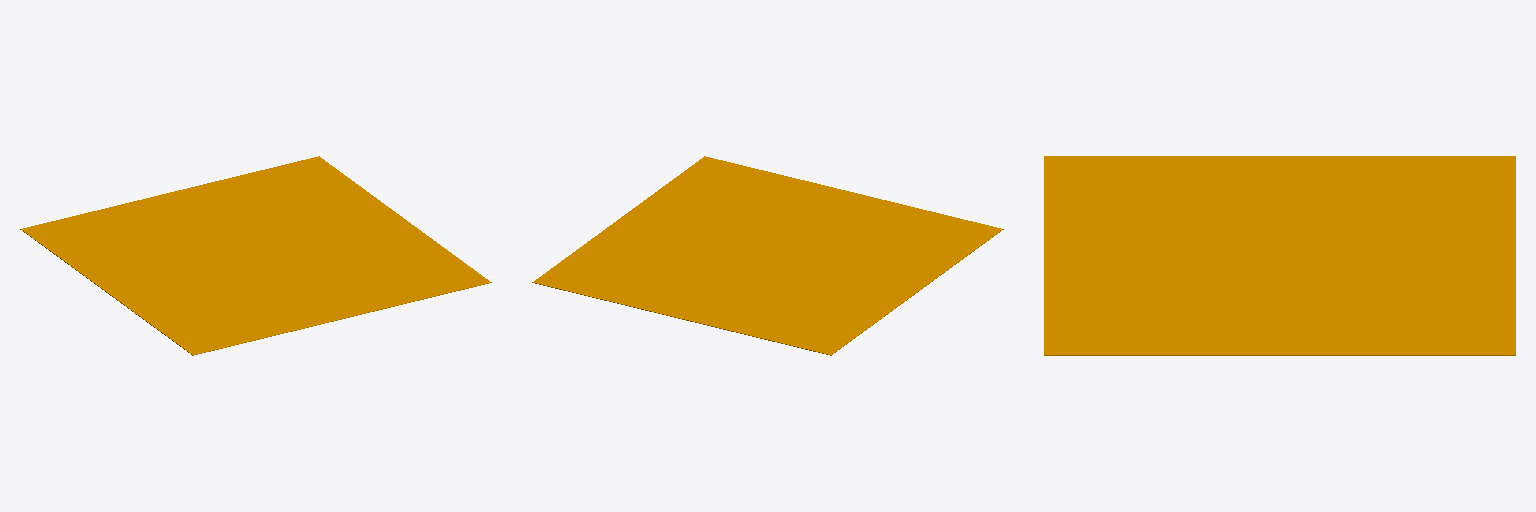
The robot description file, URDF, robot "block_placeholder":
<robot name="block_placeholder">
  <static>1</static>
  <!-- <link name="block_placeholder_0">
    <inertial>
      <origin xyz="0.0 0.0 0.0" />
      <mass value="500" />
      <inertia  ixx="0.000052083" ixy="0.0"  ixz="0.0"  iyy="0.000052083"  iyz="0.0"  izz="0.000052083" />
    </inertial>
    <visual>
      <origin xyz="0.0 0.0 0.0" />
      <geometry>
        <box size="0.001 0.05 0.04" />
      </geometry>
    </visual>
    <collision>
      <origin xyz="0.0 0.0 0.0" />
      <geometry>
        <box size="0.001 0.05 0.04" />
      </geometry>
    </collision>
  </link>

  <link name="block_placeholder_1">
    <inertial>
      <origin xyz="0.0 0.0 0.0" />
      <mass value="500" />
      <inertia  ixx="0.000052083" ixy="0.0"  ixz="0.0"  iyy="0.000052083"  iyz="0.0"  izz="0.000052083" />
    </inertial>
    <visual>
      <origin xyz="0.0 0.0 0.0" />
      <geometry>
        <box size="0.001 0.05 0.04" />
      </geometry>
    </visual>
    <collision>
      <origin xyz="0.0 0.0 0.0" />
      <geometry>
        <box size="0.001 0.05 0.04" />
      </geometry>
    </collision>
  </link>

<link name="block_placeholder_2">
    <inertial>
      <origin xyz="0.0 0.0 0.0" />
      <mass value="500" />
      <inertia  ixx="0.000052083" ixy="0.0"  ixz="0.0"  iyy="0.000052083"  iyz="0.0"  izz="0.000052083" />
    </inertial>
    <visual>
      <origin xyz="0.0 0.0 0.0" />
      <geometry>
        <box size="0.05 0.001 0.04" />
      </geometry>
    </visual>
    <collision>
      <origin xyz="0.0 0.0 0.0" />
      <geometry>
        <box size="0.05 0.001 0.04" />
      </geometry>
    </collision>
  </link>

  <link name="block_placeholder_3">
    <inertial>
      <origin xyz="0.0 0.0 0.0" />
      <mass value="500" />
      <inertia  ixx="0.000052083" ixy="0.0"  ixz="0.0"  iyy="0.000052083"  iyz="0.0"  izz="0.000052083" />
    </inertial>
    <visual>
      <origin xyz="0.0 0.0 0.0" />
      <geometry>
        <box size="0.05 0.001 0.04" />
      </geometry>
    </visual>
    <collision>
      <origin xyz="0.0 0.0 0.0" />
      <geometry>
        <box size="0.05 0.001 0.04" />
      </geometry>
    </collision>
  </link> -->

  <link name="block_placeholder_aruco">
    <inertial>
      <origin xyz="0.0 0.0 0.0" />
      <mass value="500" />
      <inertia  ixx="10" ixy="0.0"  ixz="0.0"  iyy="10"  iyz="0.0"  izz="10" />
    </inertial>
    <visual>
      <origin xyz="0.0 0.0 0.0" />
      <geometry>
        <mesh filename="package://world_simulation/models/aruco_cube/meshes/aruco_cube_8cm_26.dae" scale="1.125 1.125 .002"/>
      </geometry>
    </visual>
    <collision>
      <origin xyz="0.0 0.0 0.0" />
      <geometry>
        <box size="0.09 0.09 0.0001" />
      </geometry>
    </collision>
  </link>


  <!-- <joint name="0_to_2" type="fixed">
    <parent link="block_placeholder_0"/>
    <child link="block_placeholder_2"/>
    <origin xyz="0.025 0.025 0"/>
  </joint>

  <joint name="0_to_3" type="fixed">
    <parent link="block_placeholder_0"/>
    <child link="block_placeholder_3"/>
    <origin xyz="0.025 -0.025 0"/>
  </joint>

  <joint name="3_to_1" type="fixed">
    <parent link="block_placeholder_3"/>
    <child link="block_placeholder_1"/>
    <origin xyz="0.025 0.025 0"/>
  </joint>

  <joint name="marker_to_0" type="fixed">
    <parent link="block_placeholder_0"/>
    <child link="block_placeholder_aruco"/>
    <origin xyz="0.025 0 -0.02"/>
  </joint> -->

</robot>

--- Facts derived from the render (not from the file) ---
Views: 3 orthographic renders of the robot side by side, from view 1: azimuth 30°, elevation 25°; view 2: azimuth 150°, elevation 25°; view 3: azimuth 270°, elevation 25°.
Robot: block_placeholder — 1 links, 0 joints (none); root link block_placeholder_aruco; default pose: all joints at 0.
Visible links, largest first — view 1: block_placeholder_aruco; view 2: block_placeholder_aruco; view 3: block_placeholder_aruco.
Boxes of the visible links, x1,y1,x2,y2 form: block_placeholder_aruco: (20,156,491,355); block_placeholder_aruco: (532,156,1003,355); block_placeholder_aruco: (1044,156,1515,355).
Size in the robot's own frame: 0.09 by 0.09 by 0.0002 metres.
Meshes: 1 distinct files referenced, 1 mesh visuals loaded (1 Collada DAE).
